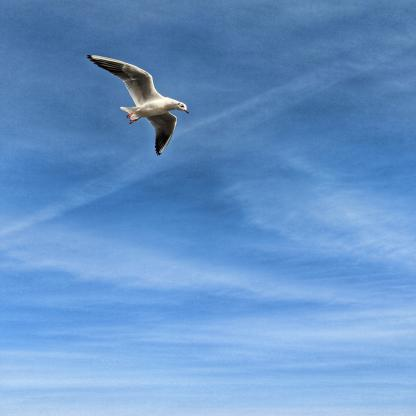bird: (87, 52, 191, 155)
